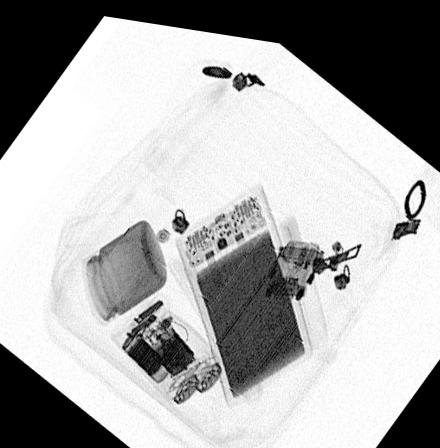Powerbank: (171, 176, 311, 397)
